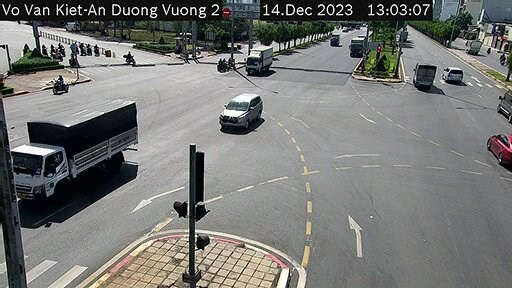car: (219, 88, 262, 134), (479, 132, 512, 172), (442, 64, 464, 87)
motorbike: (49, 77, 76, 96), (118, 53, 139, 65)
truck: (3, 97, 142, 214), (413, 55, 436, 91), (243, 44, 270, 73), (350, 33, 367, 58)
